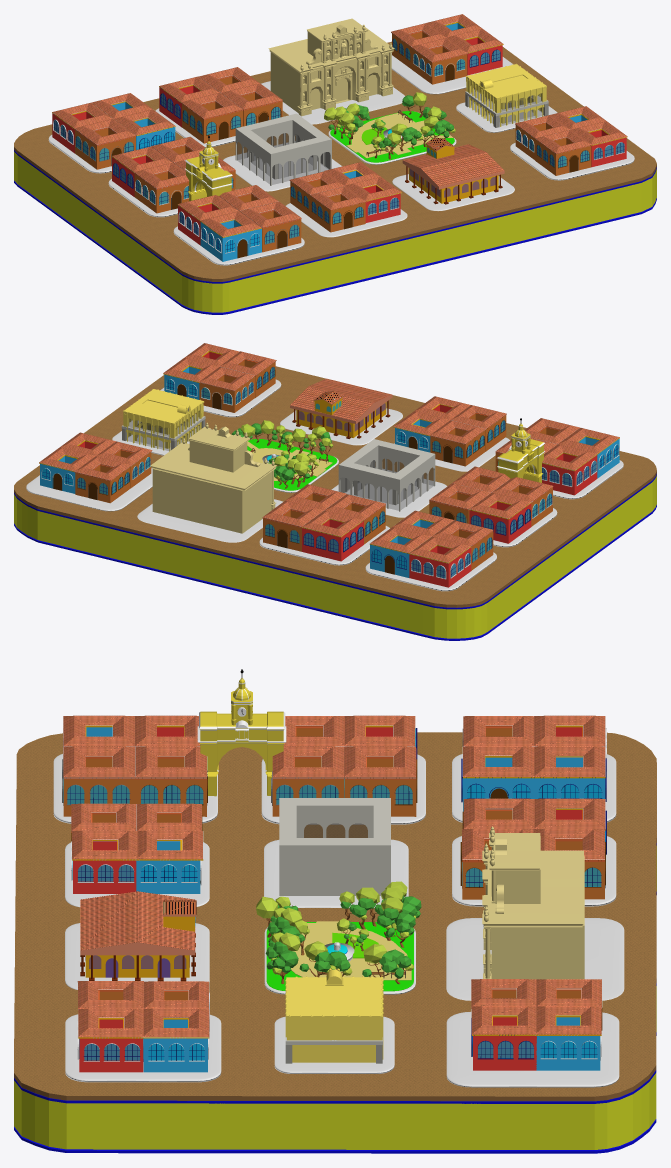
Rendered from FaseTHREE.fbx.
3 renders of one model, top to bottom at view 1: azimuth 30°, elevation 25°; view 2: azimuth 150°, elevation 25°; view 3: azimuth 270°, elevation 25°, orthographic. The views are drawn at different scales.
Visible parts, largest first — view 1: Cube.022, Cube, Cube.004, Cube.044, Cube.048, Cube.369, Cube.033, Cube.007, Cube.039, Cube.083, Cube.029, Cube.068 (+34 smaller); view 2: Cube.022, Cube, Cube.004, Cube.044, Cube.048, Cube.369, Cube.054, Cube.006, Cube.025, Cube.034, Cube.019, Cube.009 (+35 smaller); view 3: Cube.022, Cube, Cube.004, Cube.044, Cube.048, Cube.369, Cube.011, Cube.346, Cube.010, Cube.093, Cube.024, Cube.060 (+38 smaller).
Part boxes in pixels (box(x1,y1,x2,y2)): Cube.022: box(14, 41, 656, 281); Cube: box(14, 150, 656, 314); Cube.004: box(268, 18, 394, 116); Cube.044: box(235, 113, 331, 185); Cube.048: box(402, 137, 504, 204); Cube.369: box(465, 63, 548, 127); Cube.033: box(200, 211, 261, 261); Cube.007: box(181, 93, 242, 143); Cube.039: box(134, 162, 189, 213); Cube.083: box(75, 119, 135, 169); Cube.029: box(535, 129, 592, 175); Cube.068: box(411, 38, 468, 84); Cube.022: box(14, 366, 656, 607); Cube: box(14, 474, 656, 640); Cube.004: box(150, 422, 276, 533); Cube.044: box(338, 439, 435, 511); Cube.048: box(290, 378, 392, 438); Cube.369: box(121, 389, 205, 451); Cube.054: box(409, 536, 471, 587); Cube.006: box(302, 510, 363, 561); Cube.025: box(469, 492, 531, 543); Cube.034: box(541, 444, 597, 495); Cube.019: box(74, 456, 130, 503); Cube.009: box(430, 420, 485, 466); Cube.022: box(14, 732, 656, 1101); Cube: box(14, 843, 656, 1153); Cube.004: box(482, 826, 584, 979); Cube.044: box(279, 798, 390, 895); Cube.048: box(80, 891, 196, 981); Cube.369: box(285, 968, 383, 1063); Cube.011: box(446, 918, 624, 1000); Cube.346: box(446, 1011, 619, 1087); Cube.010: box(197, 669, 286, 796); Cube.093: box(62, 746, 135, 816); Cube.024: box(344, 746, 417, 816); Cube.060: box(77, 1008, 144, 1072).
Bounding box in the file's own units: 1852 × 429 × 1381.
Materials: 55 (2 with a texture image).
